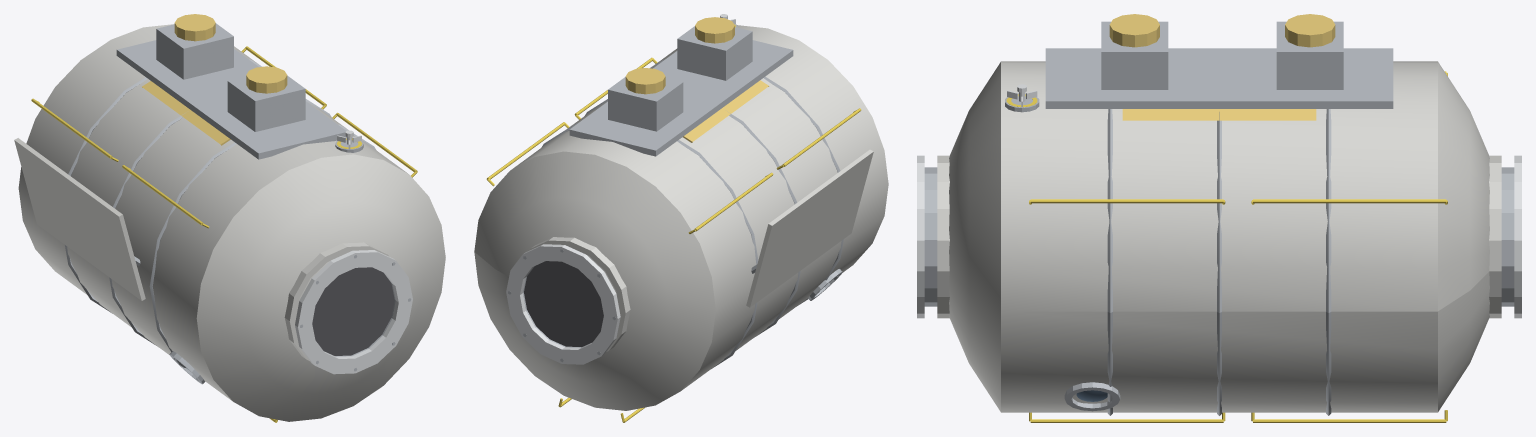
Rendered from orbital-station-and-docking-bays-laboratory-module-com-f2de040a__24527.glb.
3 renders of one model, left to right at view 1: azimuth 30°, elevation 25°; view 2: azimuth 150°, elevation 25°; view 3: azimuth 270°, elevation 25°, orthographic. The views are drawn at different scales.
Parts seen in each view (by area): view 1: laboratory-module-compact; view 2: laboratory-module-compact; view 3: laboratory-module-compact.
Part boxes in pixels (x1,y1,x2,y2): laboratory-module-compact: [14, 14, 445, 422]; laboratory-module-compact: [474, 14, 888, 422]; laboratory-module-compact: [917, 14, 1521, 422].
Bounding box in the file's own units: 4.77 × 4.97 × 7.2.
